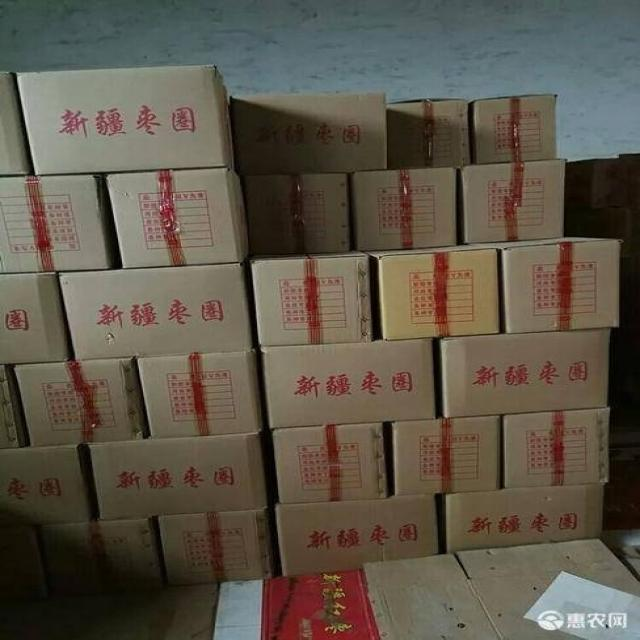box: (17, 66, 236, 176), (58, 258, 254, 362), (434, 327, 612, 419), (257, 339, 437, 428), (85, 433, 266, 520), (105, 168, 253, 270), (269, 493, 439, 579), (231, 91, 390, 177), (488, 235, 622, 336), (371, 242, 504, 343), (435, 483, 609, 555), (136, 347, 266, 441), (250, 250, 374, 347), (0, 172, 119, 273), (14, 356, 148, 445), (39, 516, 169, 598), (271, 422, 390, 503), (458, 158, 567, 245), (156, 508, 274, 588), (351, 167, 459, 254), (388, 415, 504, 495), (241, 173, 351, 256), (504, 407, 610, 490), (0, 441, 94, 526), (0, 271, 73, 364), (470, 93, 559, 164), (384, 97, 471, 169), (0, 524, 49, 602), (0, 73, 33, 176), (0, 365, 28, 448)
